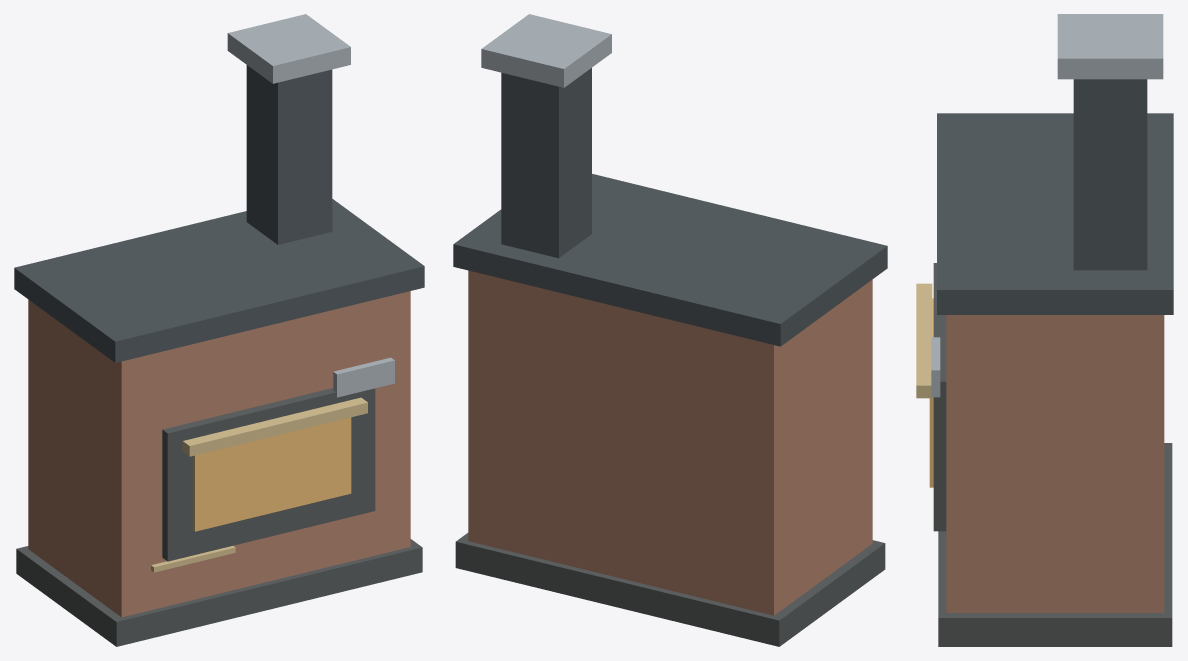
The model's file is bakery_oven.glb.
The picture shows the model from 3 angles, left to right: view 1: azimuth 30°, elevation 25°; view 2: azimuth 150°, elevation 25°; view 3: azimuth 270°, elevation 25°; orthographic projection. The views are drawn at different scales.
Parts seen in each view (by area): view 1: bakery_oven; view 2: bakery_oven; view 3: bakery_oven.
Boxes of the visible parts, left/top/right/bottom form: bakery_oven: left=14, top=14, right=424, bottom=646; bakery_oven: left=453, top=14, right=887, bottom=646; bakery_oven: left=916, top=14, right=1173, bottom=646.
Bounding box in the file's own units: 1.82 × 2.77 × 1.12.
